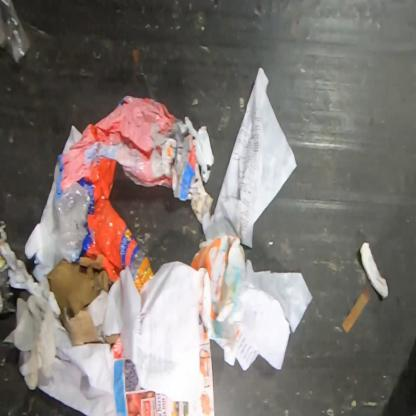cardboard: (46, 254, 120, 353)
soft_plastic: (53, 95, 176, 293), (0, 0, 35, 66)
